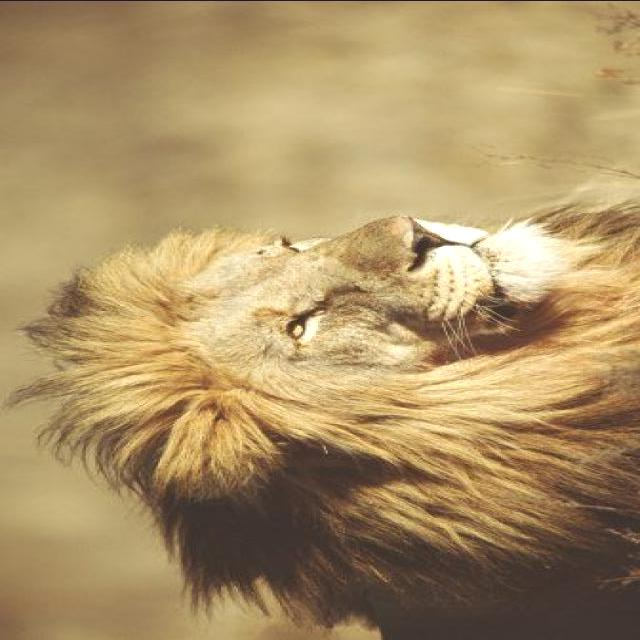lions: (2, 77, 640, 640)
